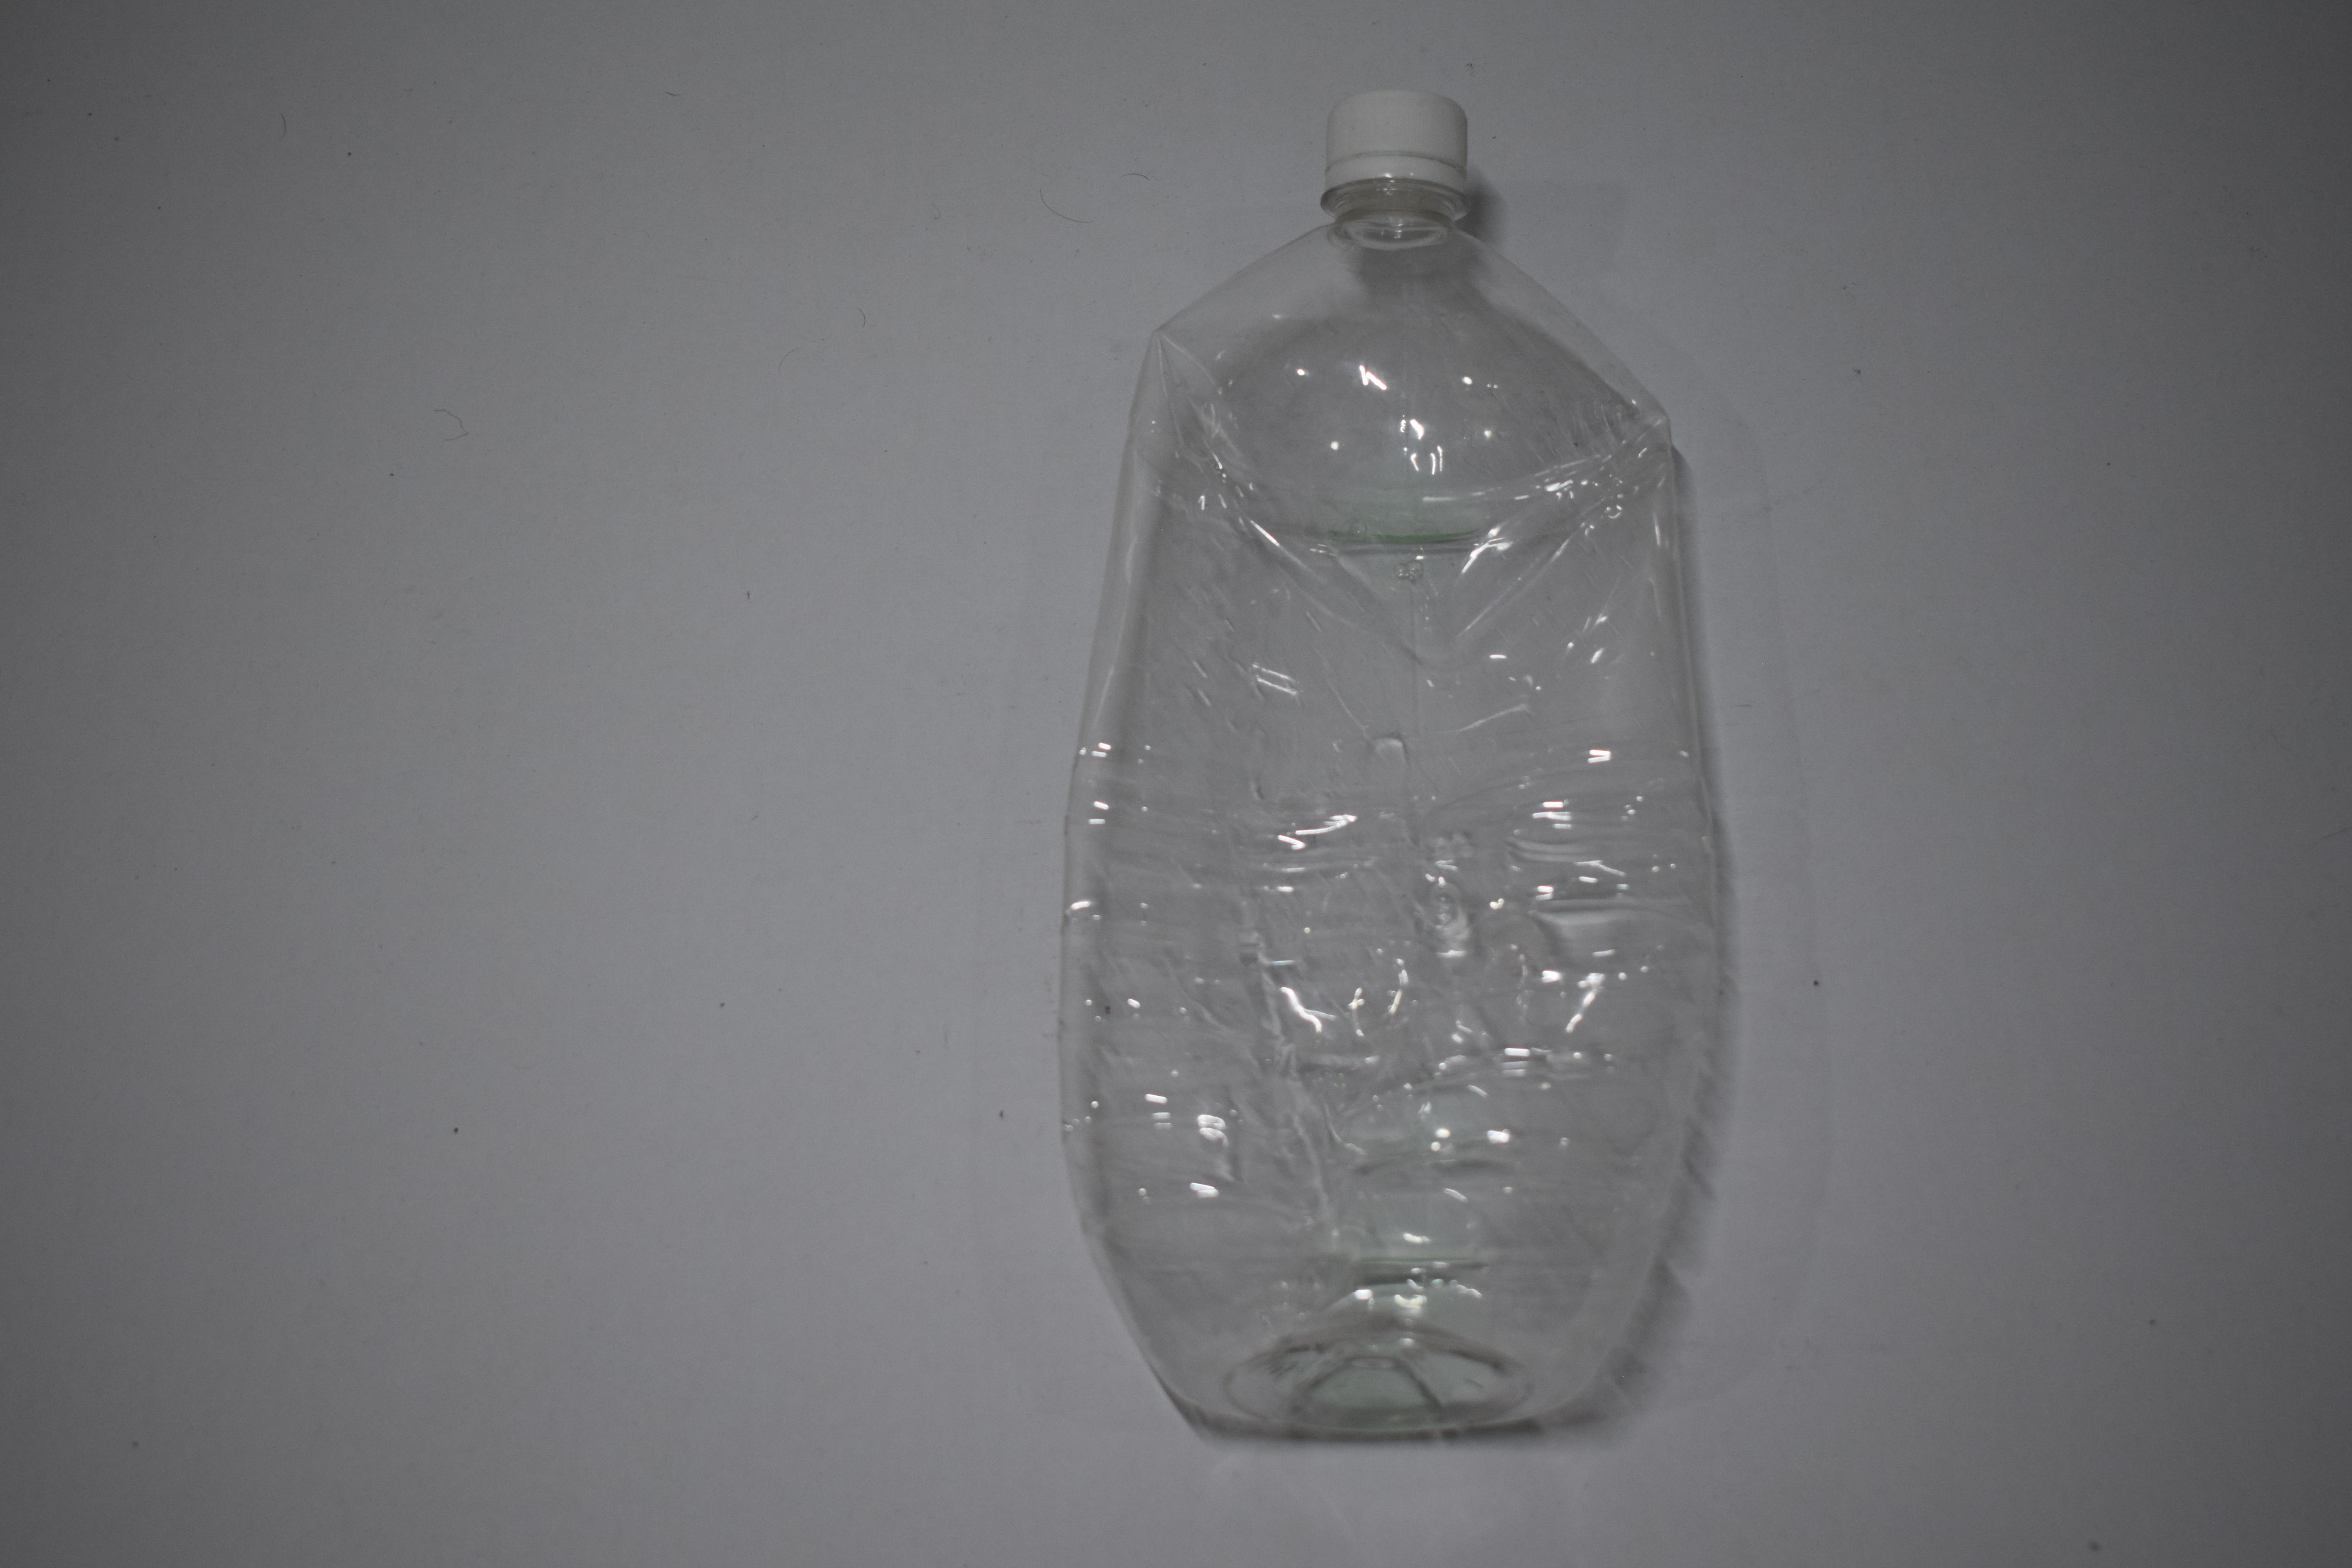bottle: (0, 63, 567, 1442)
